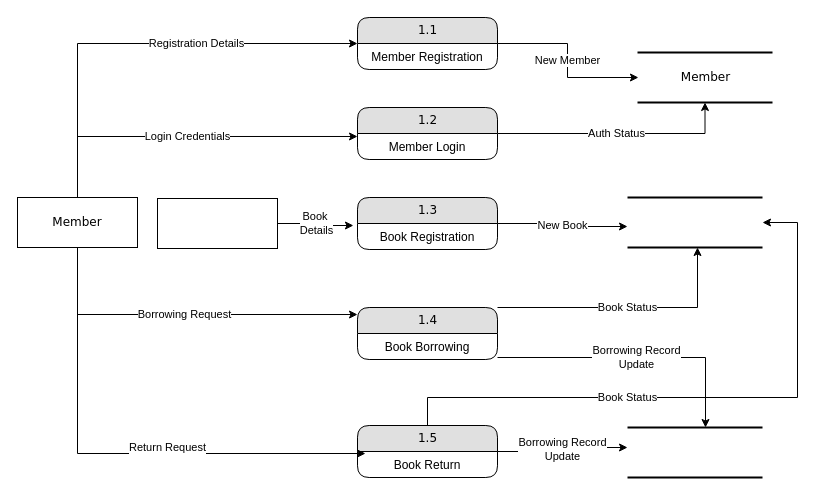
The diagram is 823 pixels wide and 498 high, and some of its shapes have lost their labels. Here are the shapes that lost their labels. From the top down, the centre of each, then its label:
At (x=217, y=223): "Librarian".
At (x=694, y=222): "Book".
At (x=694, y=452): "Borrowing Records".
